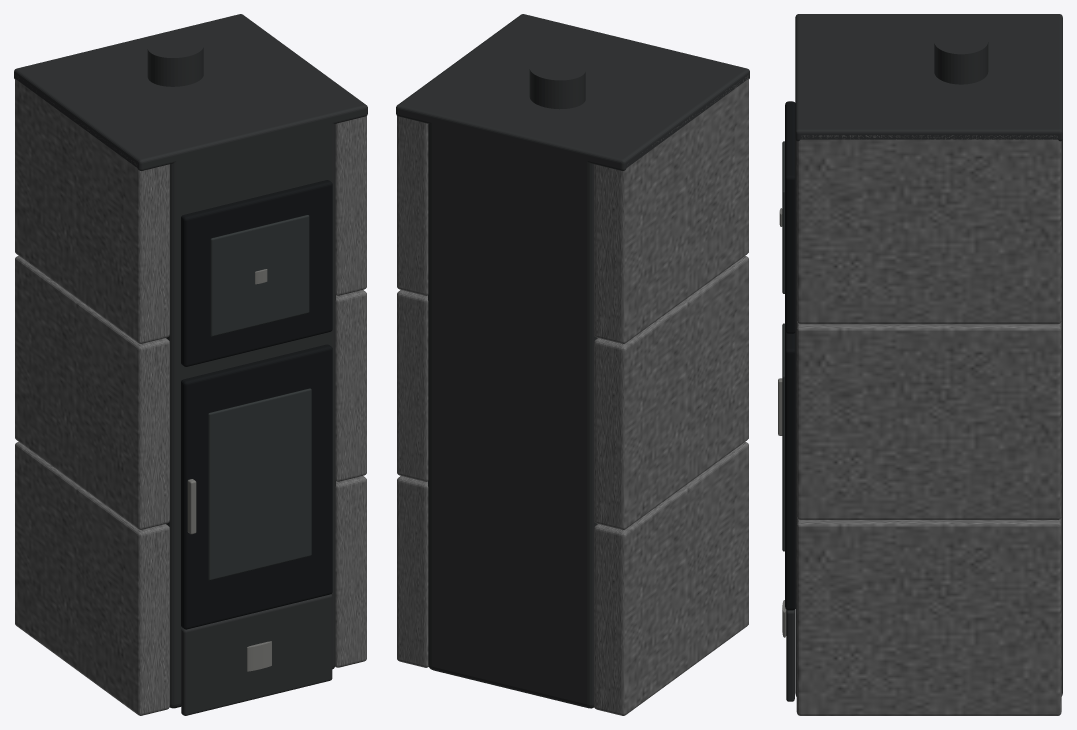
The model's file is nordica-rossella-plus-forno165-petra-pietra.glb.
3 renders of one model, left to right at view 1: azimuth 30°, elevation 25°; view 2: azimuth 150°, elevation 25°; view 3: azimuth 270°, elevation 25°, orthographic. The views are drawn at different scales.
Parts seen in each view (by area): view 1: Corpo.007, Pannello laterale.034, Pannello laterale.035, Pannello laterale.036, Porta.007, Vetro sportello.007, Sportello forno.002, Coperchio.007, Cassetto cenere.007, Vetro forno.002, Pannello laterale.037, Pannello laterale.038 (+3 smaller); view 2: Corpo.007, Pannello laterale.034, Pannello laterale.035, Pannello laterale.036, Coperchio.007, Pannello laterale.037, Pannello laterale.038, Pannello laterale.039, Scarico fumi.007; view 3: Pannello laterale.038, Pannello laterale.037, Pannello laterale.039, Corpo.007, Coperchio.007, Porta.007, Scarico fumi.007, Sportello forno.002, Cassetto cenere.007, Vetro sportello.007, Vetro forno.002.
Boxes of the visible parts, bbox=[...] form: Corpo.007: bbox=[53, 23, 335, 708]; Pannello laterale.034: bbox=[15, 442, 169, 715]; Pannello laterale.035: bbox=[15, 256, 169, 529]; Pannello laterale.036: bbox=[15, 76, 169, 343]; Porta.007: bbox=[181, 344, 332, 629]; Vetro sportello.007: bbox=[208, 388, 311, 580]; Sportello forno.002: bbox=[181, 180, 332, 366]; Coperchio.007: bbox=[14, 14, 367, 170]; Cassetto cenere.007: bbox=[181, 594, 332, 715]; Vetro forno.002: bbox=[210, 215, 309, 336]; Pannello laterale.037: bbox=[335, 476, 366, 667]; Pannello laterale.038: bbox=[335, 290, 366, 481]; Corpo.007: bbox=[428, 23, 710, 708]; Pannello laterale.034: bbox=[594, 442, 748, 715]; Pannello laterale.035: bbox=[594, 256, 748, 529]; Pannello laterale.036: bbox=[594, 76, 748, 343]; Coperchio.007: bbox=[396, 14, 749, 170]; Pannello laterale.037: bbox=[397, 476, 428, 667]; Pannello laterale.038: bbox=[397, 290, 428, 481]; Pannello laterale.039: bbox=[397, 116, 428, 295]; Scarico fumi.007: bbox=[529, 58, 585, 109]; Pannello laterale.038: bbox=[796, 320, 1061, 519]; Pannello laterale.037: bbox=[796, 516, 1061, 715]; Pannello laterale.039: bbox=[796, 135, 1061, 324]; Corpo.007: bbox=[795, 31, 1062, 696]; Coperchio.007: bbox=[795, 14, 1062, 141]; Porta.007: bbox=[785, 331, 795, 610]; Scarico fumi.007: bbox=[934, 28, 988, 84]; Sportello forno.002: bbox=[785, 101, 795, 333]; Cassetto cenere.007: bbox=[786, 609, 794, 701]; Vetro sportello.007: bbox=[782, 323, 784, 551]; Vetro forno.002: bbox=[782, 141, 784, 293].
Size of the model in its own units: 0.559 by 1.38 by 0.5707.
5 materials, 1 textured.
